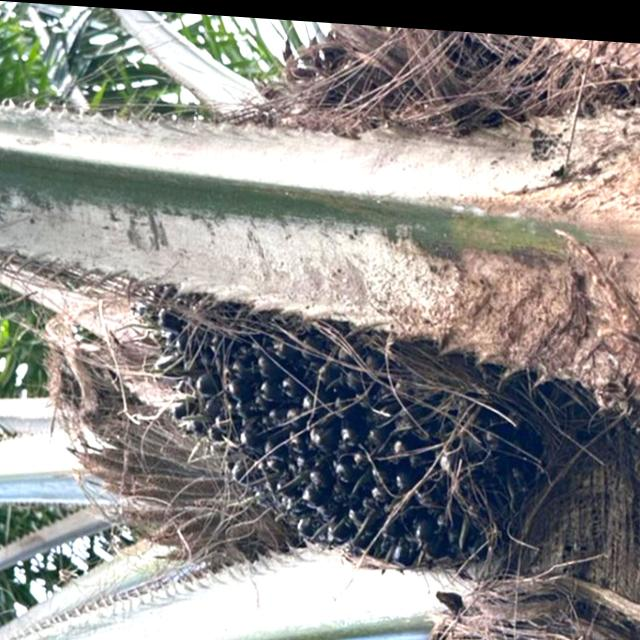unripe: (132, 274, 574, 586)
